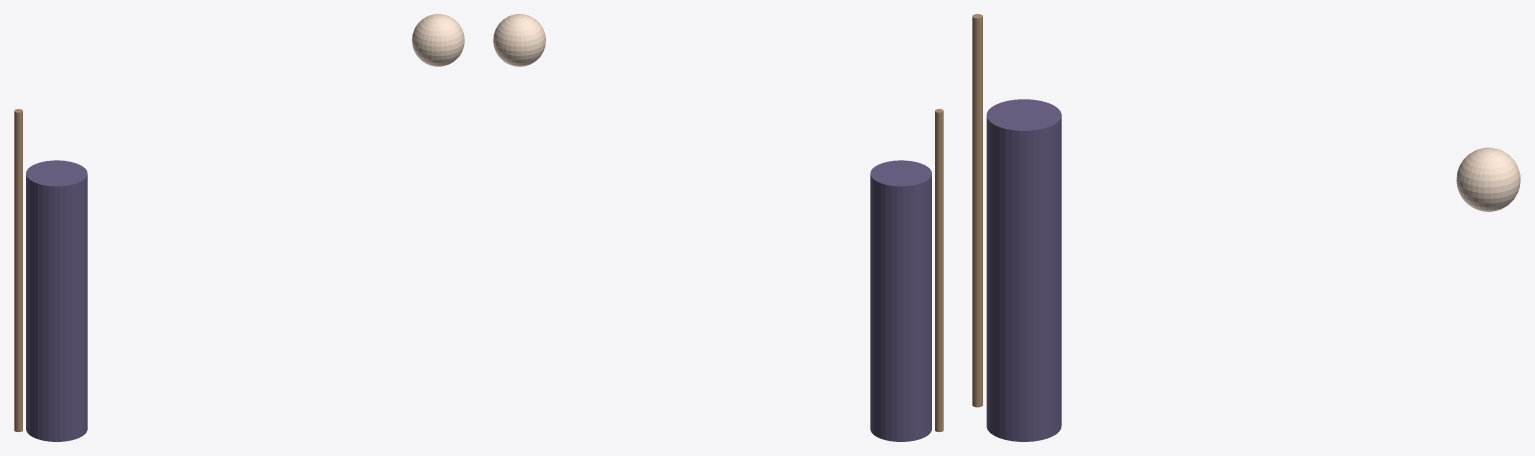
File: CH_Wizard.glb
The picture shows the model from 3 angles, left to right: view 1: azimuth 30°, elevation 25°; view 2: azimuth 150°, elevation 25°; view 3: azimuth 330°, elevation 25°; orthographic projection. The views are drawn at different scales.
Visible parts, largest first — view 1: CH_Wizard_Body, CH_Wizard_Staff, CH_Wizard_Head; view 2: CH_Wizard_Body, CH_Wizard_Staff, CH_Wizard_Head; view 3: CH_Wizard_Body, CH_Wizard_Staff, CH_Wizard_Head.
Boxes of the visible parts, bbox=[...] form: CH_Wizard_Body: bbox=[26, 160, 87, 441]; CH_Wizard_Staff: bbox=[14, 109, 22, 432]; CH_Wizard_Head: bbox=[412, 14, 464, 66]; CH_Wizard_Body: bbox=[870, 160, 931, 441]; CH_Wizard_Staff: bbox=[935, 109, 943, 432]; CH_Wizard_Head: bbox=[493, 14, 545, 66]; CH_Wizard_Body: bbox=[986, 99, 1061, 441]; CH_Wizard_Staff: bbox=[972, 14, 982, 407]; CH_Wizard_Head: bbox=[1456, 147, 1520, 211].
Size of the model in its own units: 5.85 by 4.1 by 0.7.
